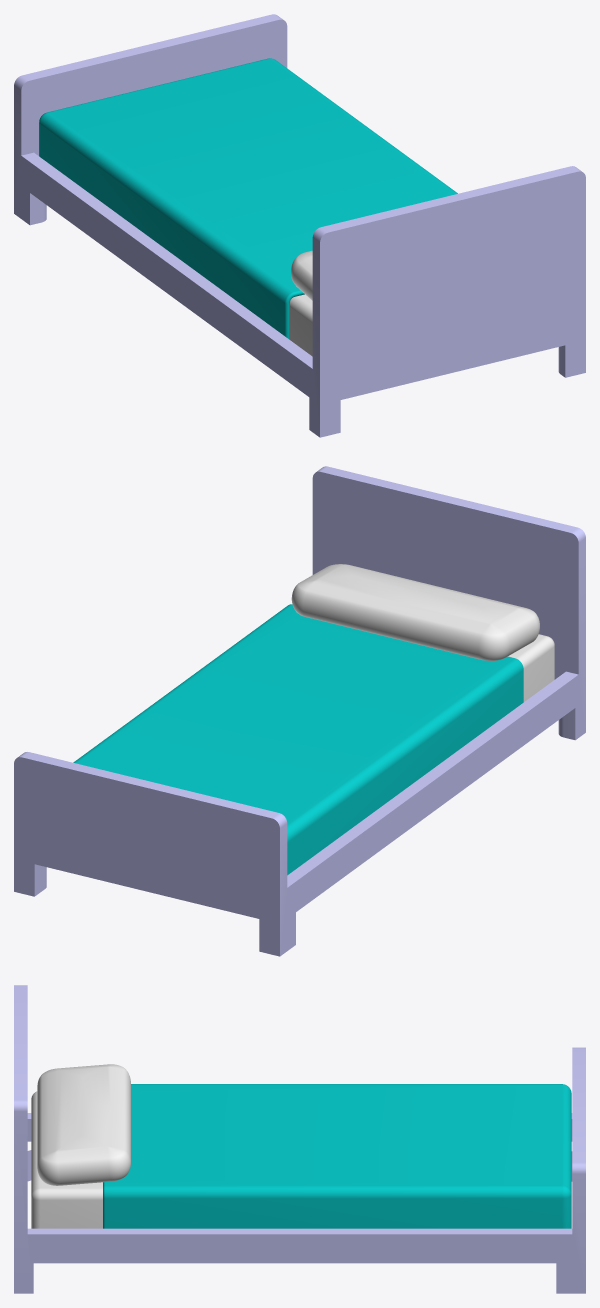
File: simple_bed.glb
The picture shows the model from 3 angles, top to bottom: view 1: azimuth 30°, elevation 25°; view 2: azimuth 150°, elevation 25°; view 3: azimuth 270°, elevation 25°; orthographic projection. The views are drawn at different scales.
Visible parts, largest first — view 1: Material2 (×2), Material3; view 2: Material2 (×2), Material3; view 3: Material3, Material2 (×2).
Boxes of the visible parts, x1=… form: Material2 (×2): x1=14, y1=14, x2=585, y2=437; Material3: x1=39, y1=58, x2=457, y2=339; Material2 (×2): x1=14, y1=466, x2=585, y2=956; Material3: x1=73, y1=604, x2=523, y2=875; Material3: x1=103, y1=1084, x2=571, y2=1228; Material2 (×2): x1=14, y1=985, x2=585, y2=1293.
Size of the model in its own units: 448 by 327 by 892.
